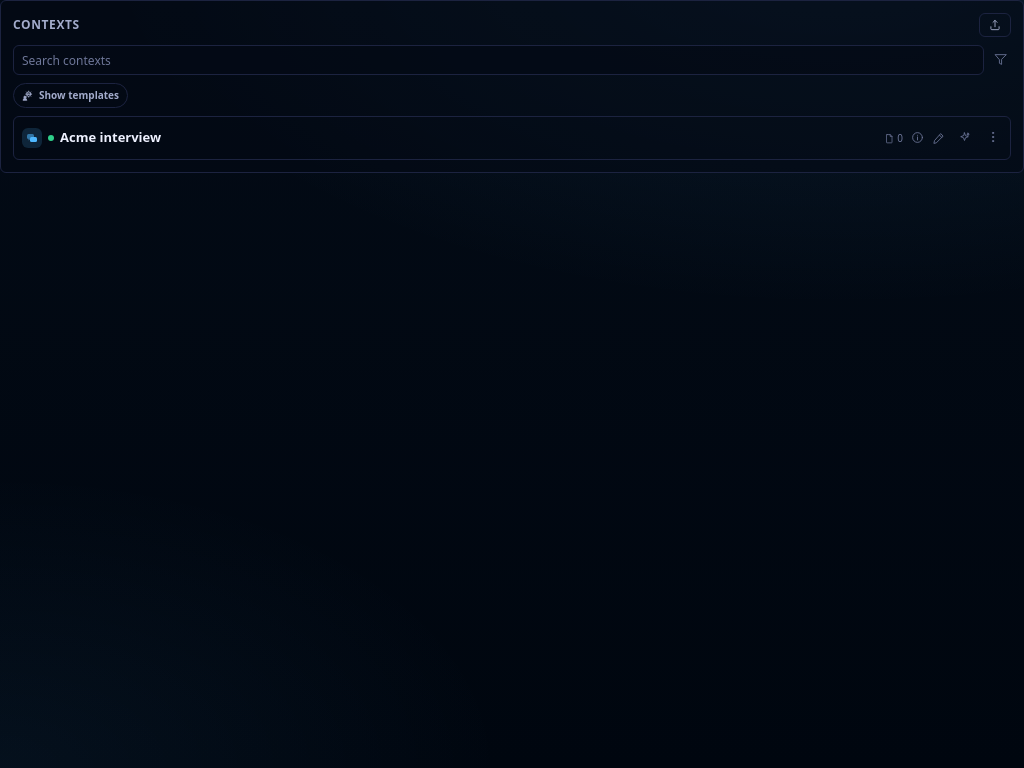
Scenario: ContextsPane › Ready contexts' info popover shows Type/Status/Updated and no readiness checklist
Expected: the element titled "Ready" is shown, [48, 135, 54, 141]
What coordinates should you click on to do the following:
click the button named "info for acme interview"
I would click on:
 (918, 138)
Its box is [909, 129, 926, 146].
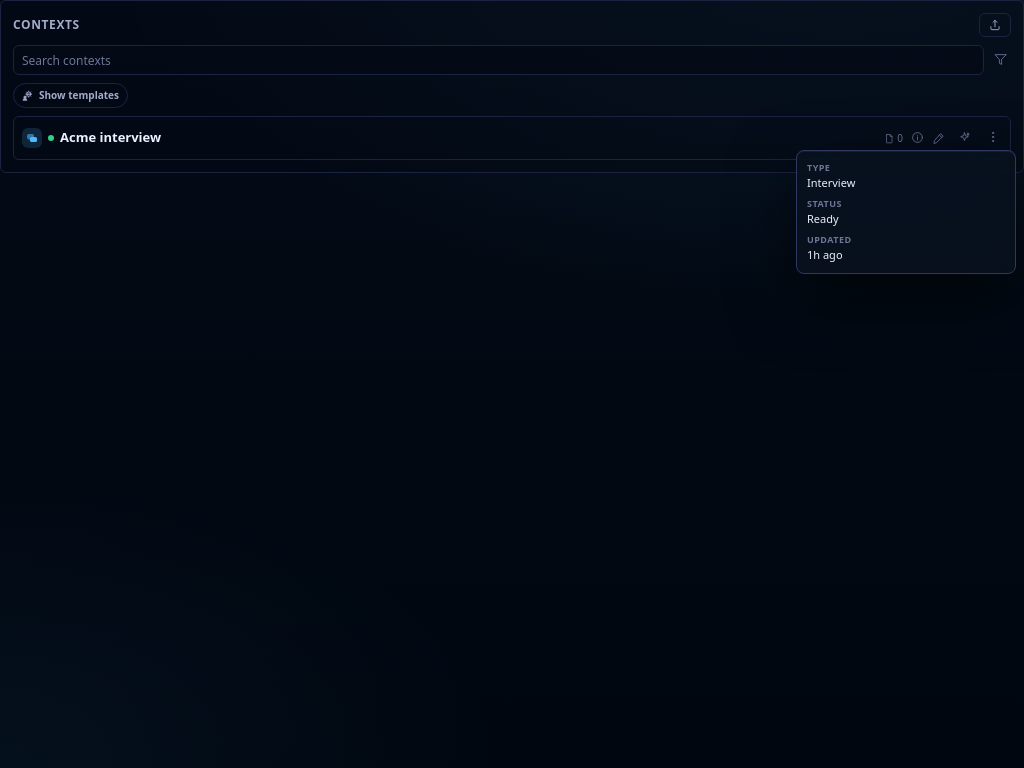
Expected: the text "Interview" is shown, [807, 174, 855, 190]
Expected: the text "Ready" is shown, [807, 210, 839, 226]
Expected: the text "1h ago" is shown, [807, 246, 842, 262]
